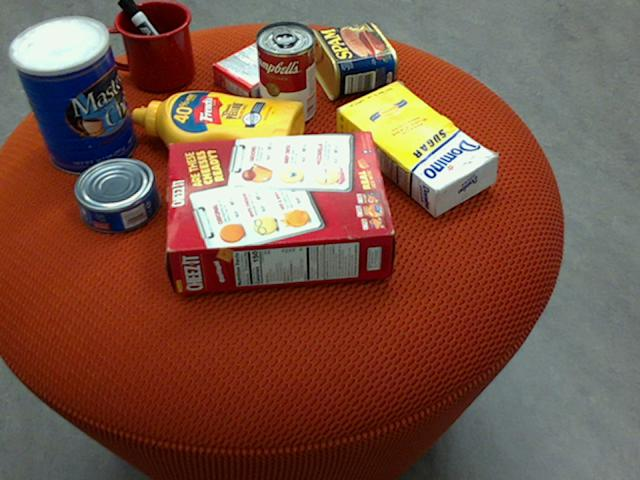cracker_box: (166, 130, 394, 293)
gelatin_box: (212, 36, 303, 104)
large_marker: (117, 0, 188, 80)
master_chef_can: (8, 15, 137, 174)
mug: (100, 0, 194, 91)
mustard_bottle: (132, 91, 304, 171)
potted_meat_can: (306, 23, 397, 101)
sugar_box: (335, 81, 499, 215)
tomato_soup_can: (255, 20, 316, 125)
tuna_fish_can: (73, 157, 160, 233)
